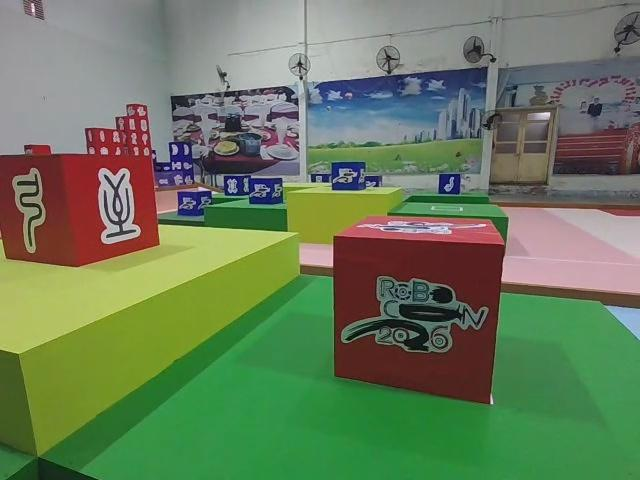R1: (330, 213, 508, 405)
R2 Fake: (0, 150, 162, 271)
